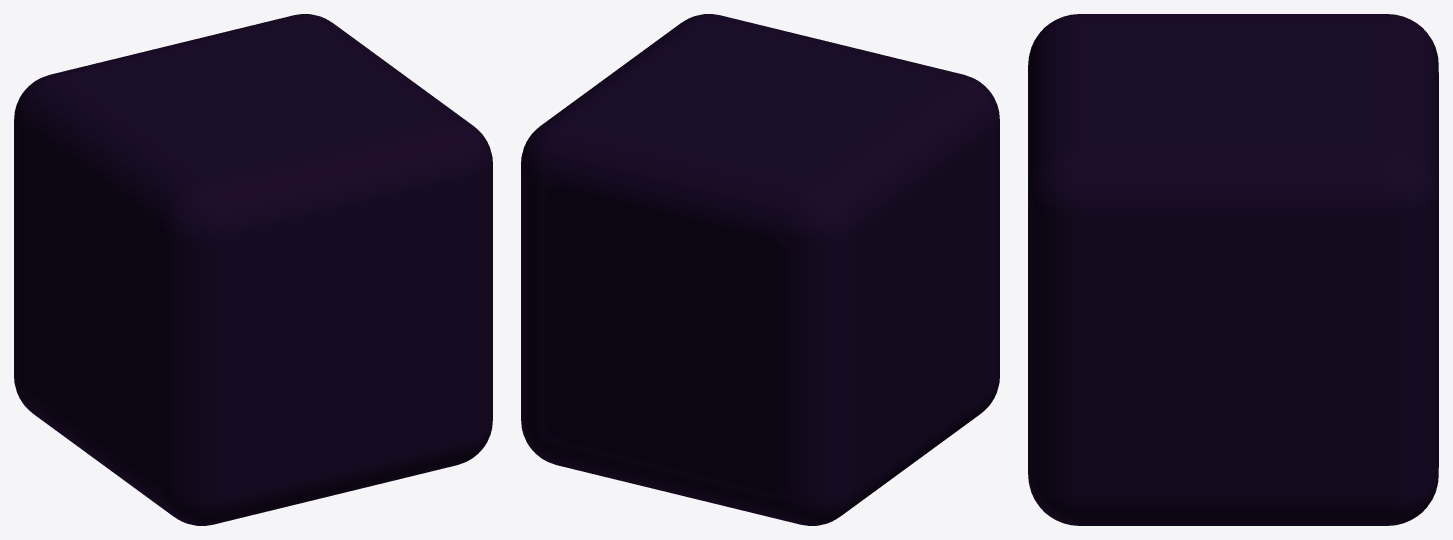
File: ButtonBase.fbx
The picture shows the model from 3 angles, left to right: view 1: azimuth 30°, elevation 25°; view 2: azimuth 150°, elevation 25°; view 3: azimuth 270°, elevation 25°; orthographic projection. The views are drawn at different scales.
Visible parts, largest first — view 1: Cube; view 2: Cube; view 3: Cube.
Part boxes in pixels (bbox=[...]): Cube: bbox=[14, 14, 492, 525]; Cube: bbox=[521, 14, 999, 525]; Cube: bbox=[1028, 14, 1438, 525].
Bounding box in the file's own units: 200 × 200 × 200.
Materials: 1 (1 with a texture image).
